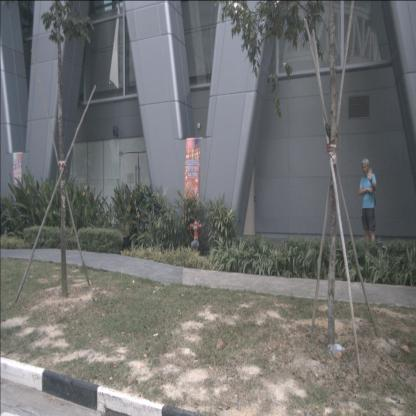human-pedestrian-adult: (359, 158, 377, 265)
